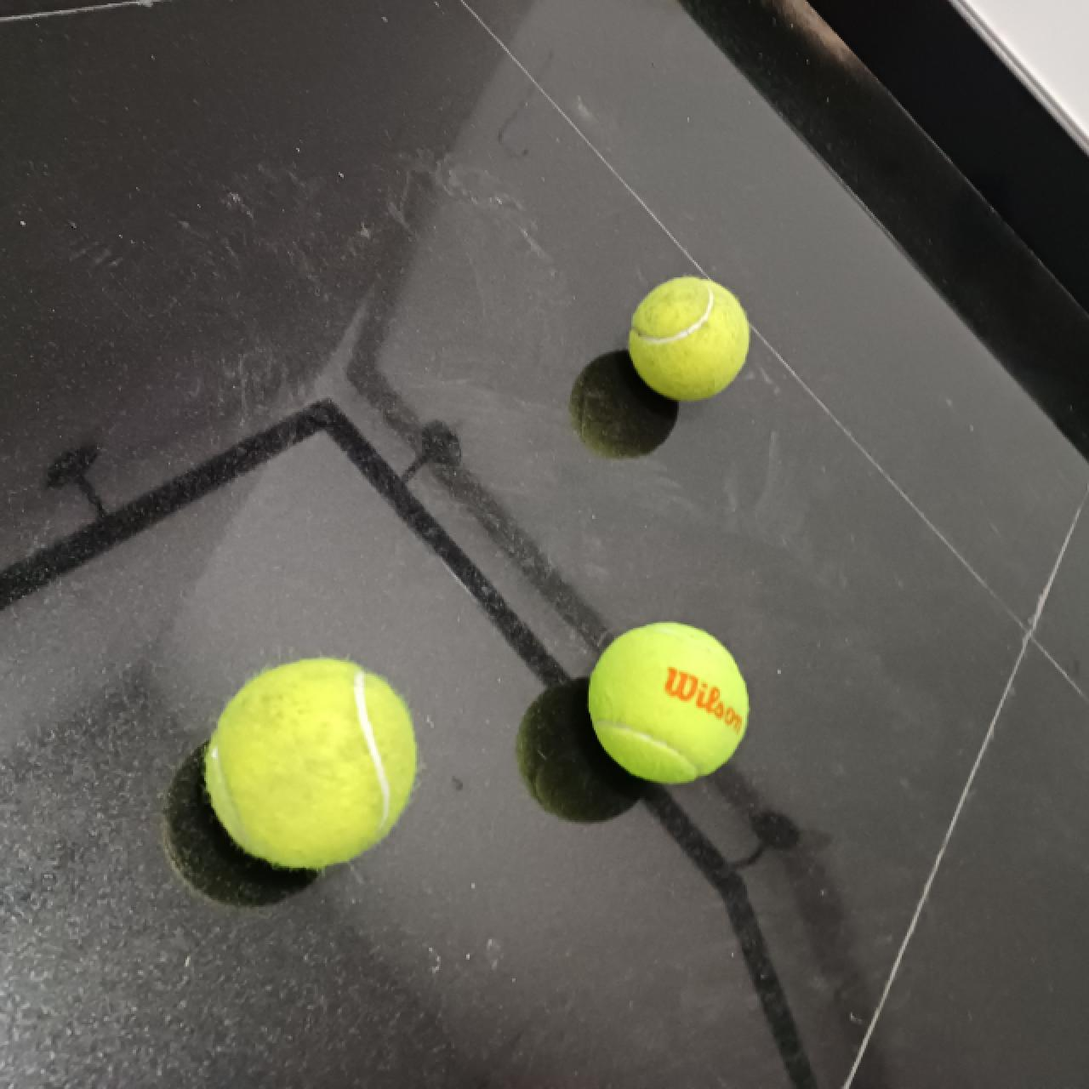tennis-ball: (210, 656, 416, 868), (589, 620, 749, 786), (628, 275, 752, 401)
